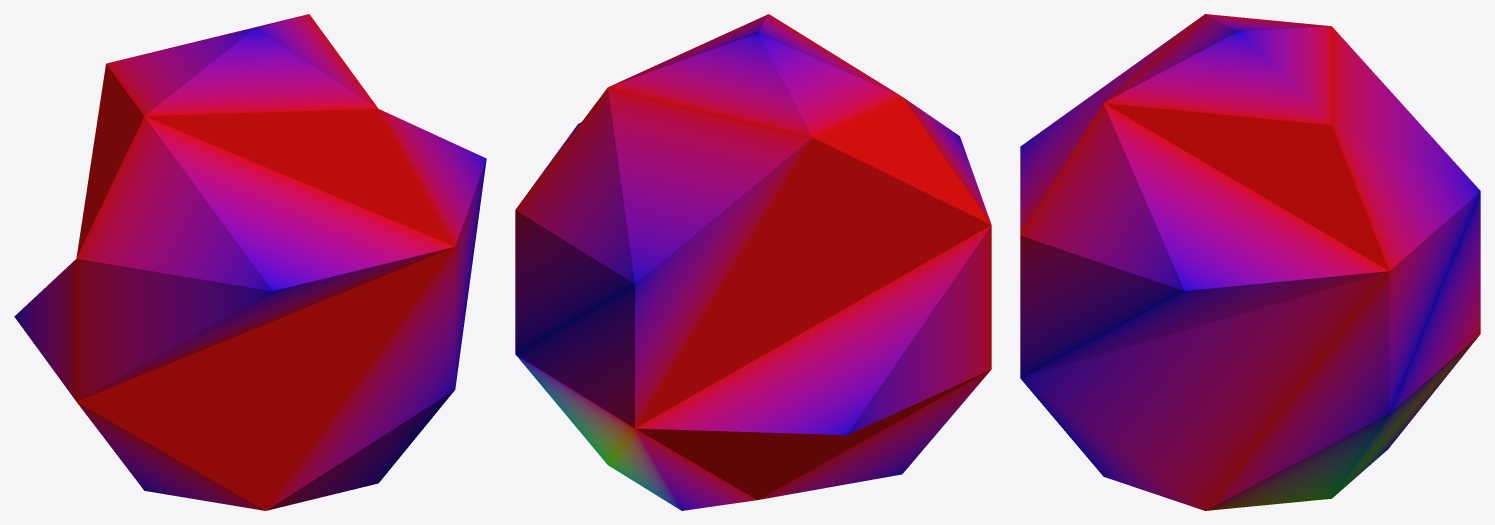
File: after_retriangulation_type_colored_6.obj
The picture shows the model from 3 angles, left to right: view 1: azimuth 30°, elevation 25°; view 2: azimuth 150°, elevation 25°; view 3: azimuth 270°, elevation 25°; orthographic projection.
Bounding box in the file's own units: 1.85 × 2 × 1.81.
